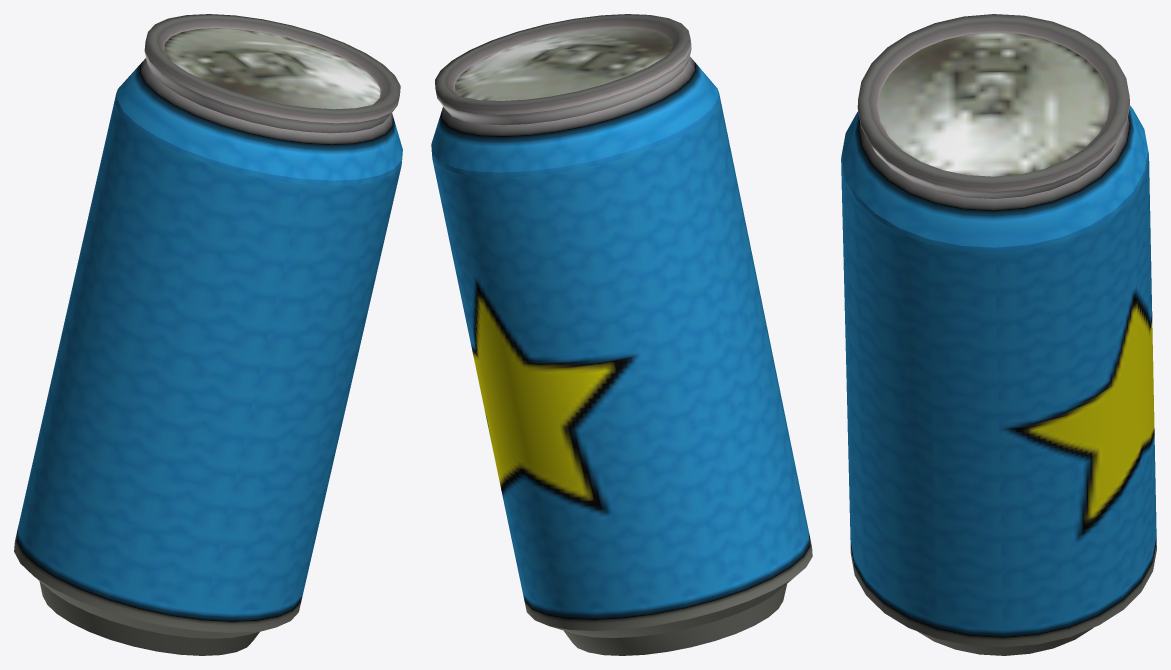
Rendered from iconlst.icn.obj.
3 views of the same model, side by side, from view 1: azimuth 30°, elevation 25°; view 2: azimuth 150°, elevation 25°; view 3: azimuth 270°, elevation 25° (orthographic). The views are drawn at different scales.
Bounding box in the file's own units: 1.19 × 1.89 × 0.8992.
1 material, 1 textured.
